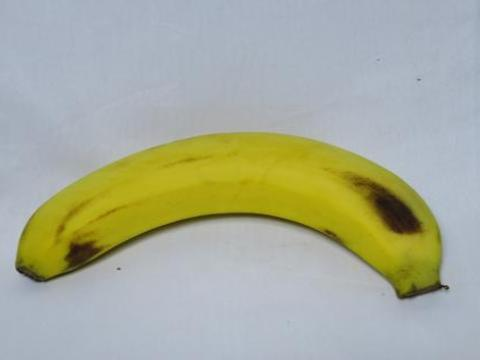freshripe: (7, 123, 457, 306)
